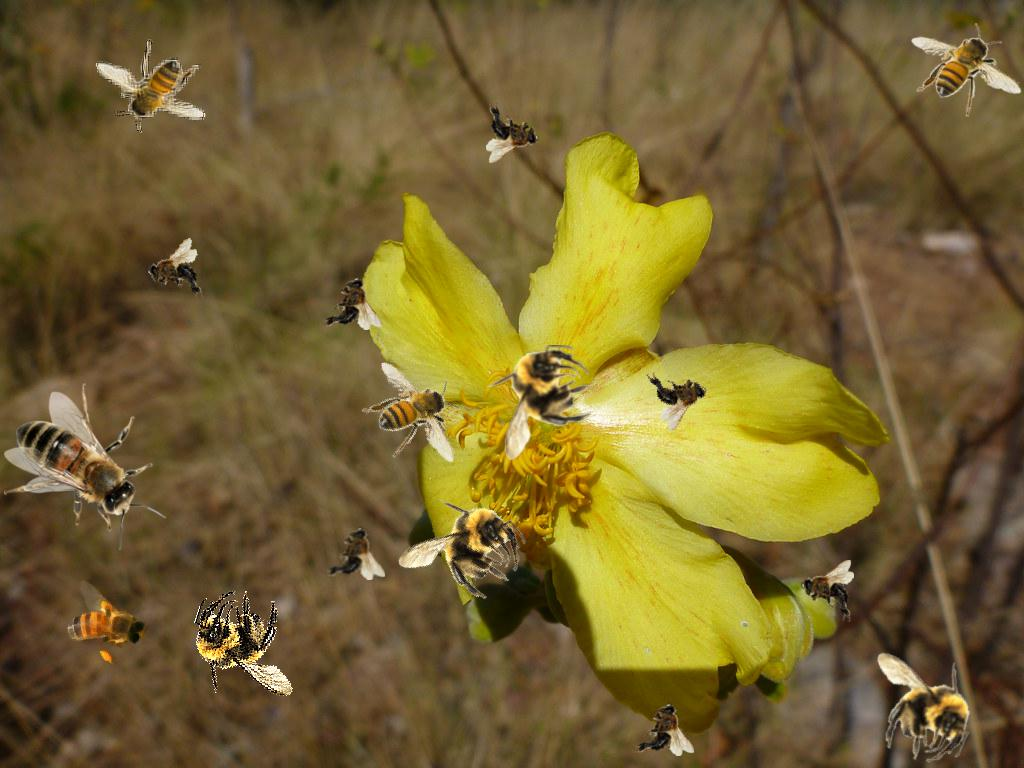Bee: (4, 383, 166, 550), (383, 472, 540, 629), (845, 632, 994, 768), (175, 578, 318, 717), (344, 347, 487, 485), (47, 573, 163, 680), (486, 345, 593, 460), (911, 23, 1022, 117), (95, 39, 206, 133), (642, 355, 717, 433), (142, 237, 207, 309), (632, 703, 694, 756), (320, 277, 382, 330), (323, 527, 385, 580), (801, 560, 854, 622), (486, 101, 539, 163)
